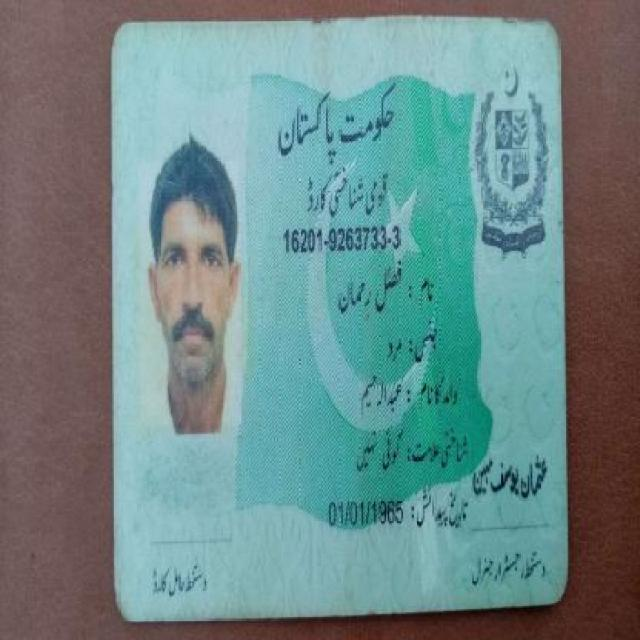Front: (106, 6, 571, 619)
